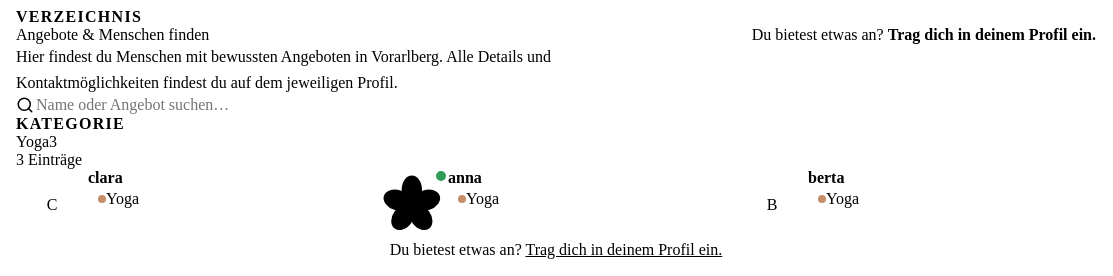
it: DirectoryPage: online status dot › opens the explanation on tap instead of following the card link
The image size is (1113, 276).
Click the picture with test id "member-badge": (412, 205) [376,169,448,241]
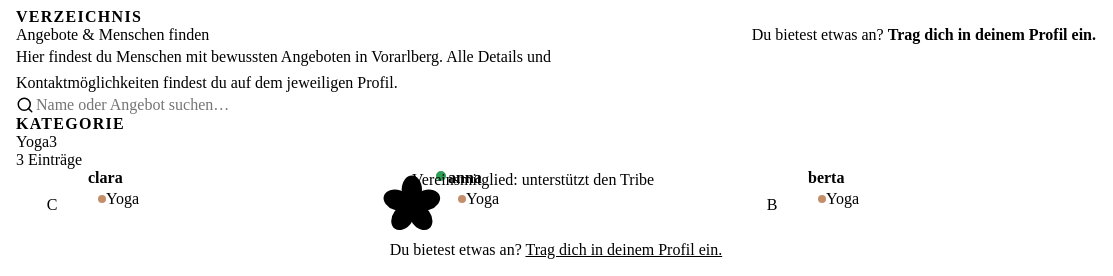
Check: the tooltip with test id "member-badge-tip" reads "Vereinsmitglied: unterstützt den Tribe", box [412,171,654,188]
